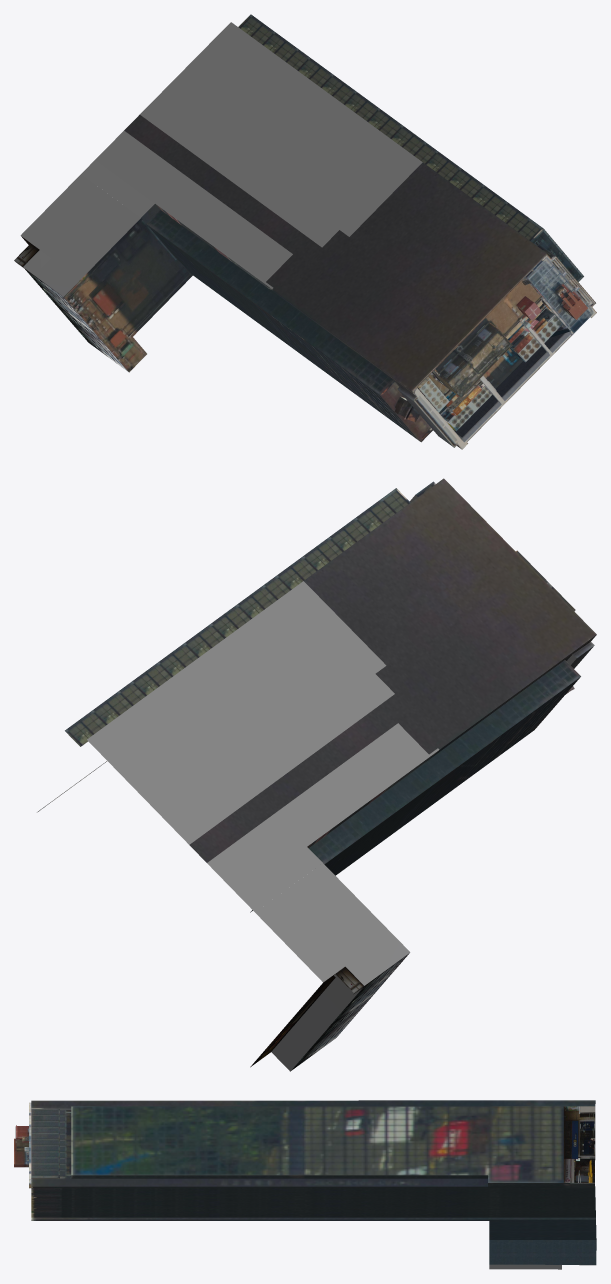
The model's file is input.glb.
3 views of the same model, one above another, from view 1: azimuth 30°, elevation 25°; view 2: azimuth 150°, elevation 25°; view 3: azimuth 270°, elevation 25° (orthographic). The views are drawn at different scales.
Parts seen in each view (by area): view 1: B342781599201063A0.gltf; view 2: B342781599201063A0.gltf; view 3: B342781599201063A0.gltf.
Part boxes in pixels (x1,y1,x2,y2): B342781599201063A0.gltf: [14, 14, 596, 449]; B342781599201063A0.gltf: [37, 478, 596, 1071]; B342781599201063A0.gltf: [14, 1100, 596, 1269].
Size of the model in its own units: 50.76 by 45.1 by 98.44.
Materials: 1 (1 with a texture image).
